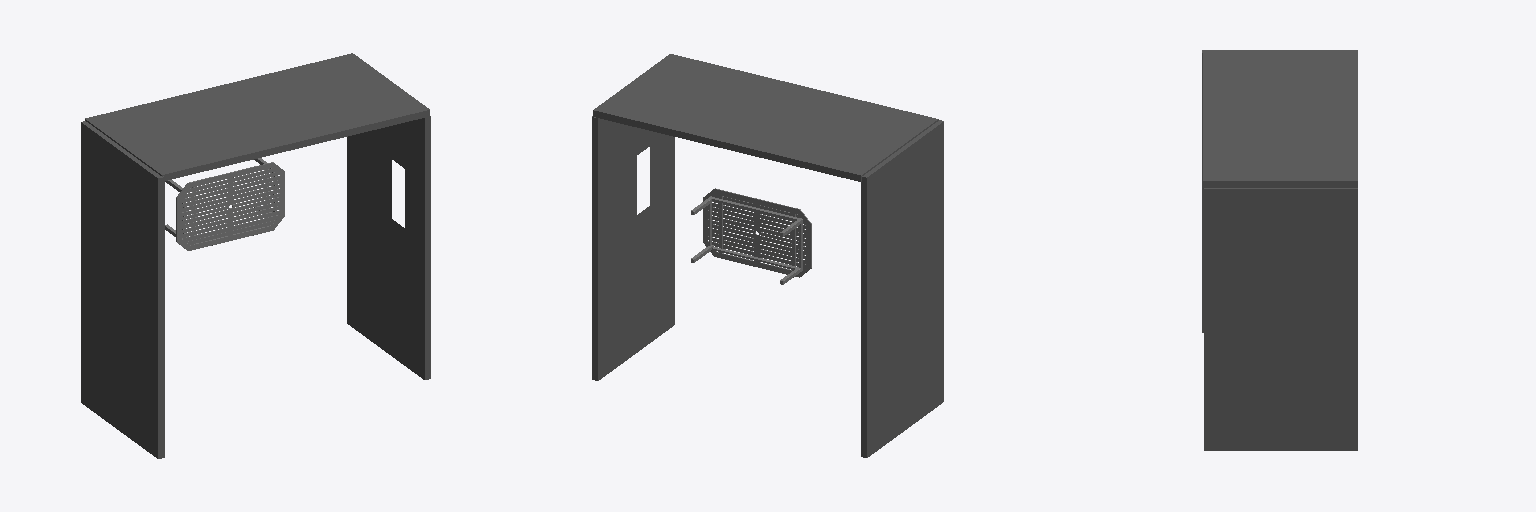
The model's file is room.obj.
3 views of the same model, side by side, from view 1: azimuth 30°, elevation 25°; view 2: azimuth 150°, elevation 25°; view 3: azimuth 270°, elevation 25° (orthographic).
Visible parts, largest first — view 1: Cube.012, Cube.011, Cube.013, default_1_1.003; view 2: Cube.012, Cube.011, Cube.013, default_1_1.003; view 3: Cube.013, Cube.011, Cube.012.
Boxes of the visible parts, x1,y1,x2,y2 form: Cube.012: [81, 121, 164, 458]; Cube.011: [85, 53, 429, 180]; Cube.013: [347, 116, 430, 379]; default_1_1.003: [165, 158, 284, 250]; Cube.012: [861, 120, 943, 457]; Cube.011: [593, 54, 938, 181]; Cube.013: [592, 116, 674, 380]; default_1_1.003: [691, 188, 811, 284]; Cube.013: [1204, 188, 1357, 450]; Cube.011: [1203, 50, 1357, 187]; Cube.012: [1202, 50, 1280, 332].
Bounding box in the file's own units: 7.92 × 7.79 × 3.92.